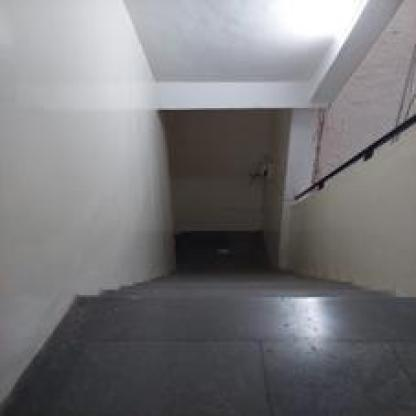stair_down: (89, 218, 364, 348)
